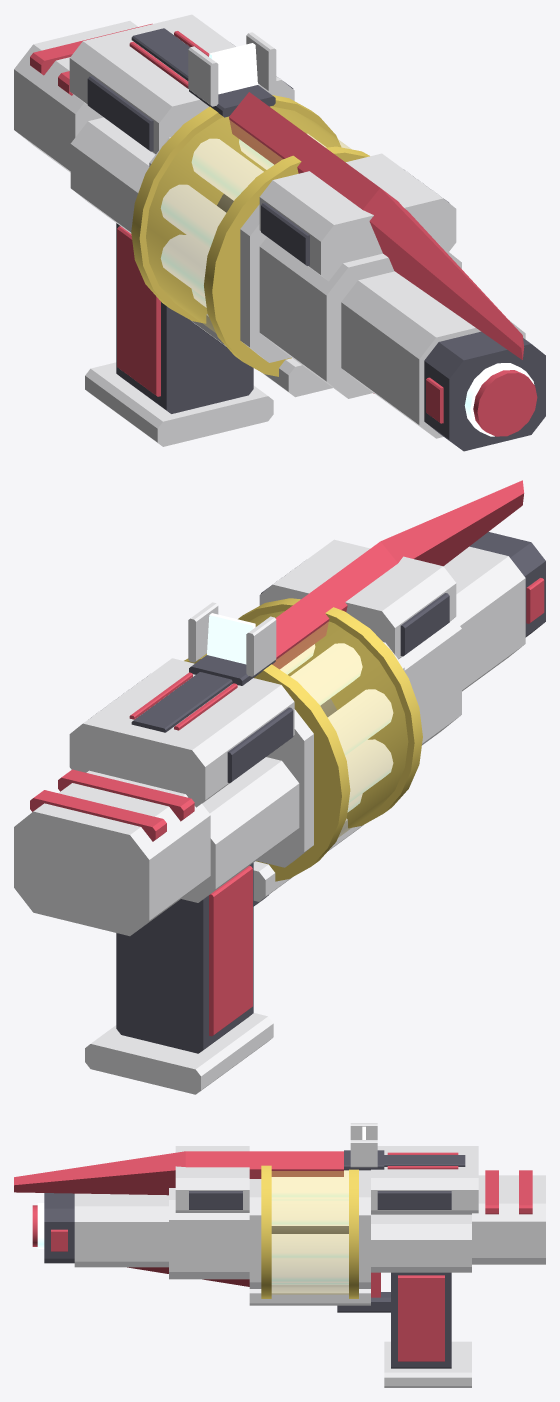
Rendered from blaster_kitsune.glb.
The picture shows the model from 3 angles, top to bottom: view 1: azimuth 30°, elevation 25°; view 2: azimuth 150°, elevation 25°; view 3: azimuth 270°, elevation 25°; orthographic projection. The views are drawn at different scales.
Parts seen in each view (by area): view 1: blaster_kitsune; view 2: blaster_kitsune; view 3: blaster_kitsune.
Boxes of the visible parts, bbox=[...] form: blaster_kitsune: bbox=[14, 14, 545, 451]; blaster_kitsune: bbox=[14, 480, 545, 1094]; blaster_kitsune: bbox=[14, 1123, 545, 1387].
Size of the model in its own units: 0.436 by 0.7875 by 1.58.
